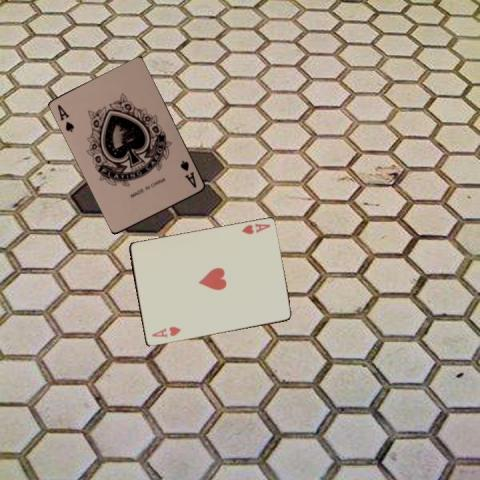Ah: (148, 324, 183, 339), (239, 221, 271, 236)
As: (177, 158, 198, 190), (55, 102, 76, 133)
